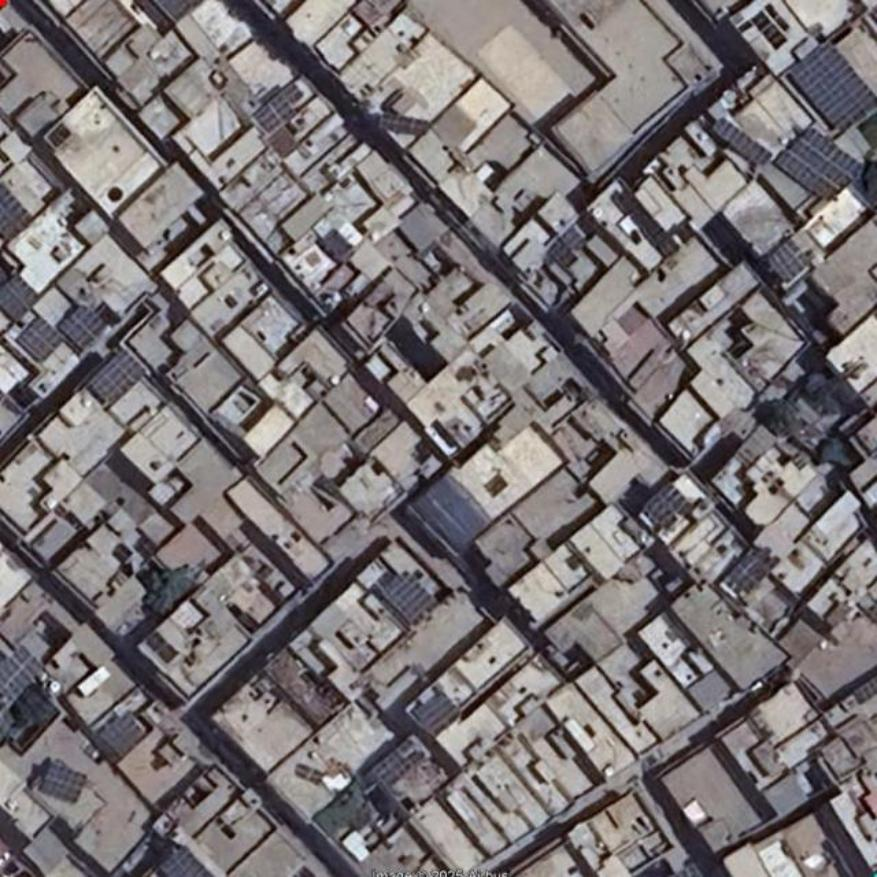Solarpanel: (788, 43, 876, 133), (774, 125, 863, 202), (711, 115, 771, 168), (0, 642, 41, 715), (88, 351, 144, 402), (383, 570, 436, 622), (0, 271, 38, 333), (98, 712, 146, 759), (415, 694, 462, 738), (38, 761, 87, 803), (17, 319, 65, 361), (0, 181, 33, 241), (59, 304, 103, 347), (766, 240, 808, 283), (161, 847, 212, 876), (730, 554, 769, 591), (255, 95, 293, 132), (377, 112, 430, 136)
